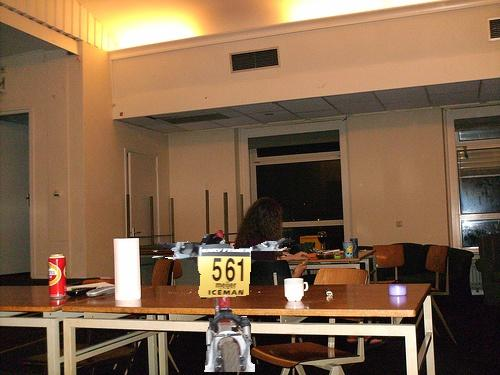tampered: (153, 231, 291, 372)
